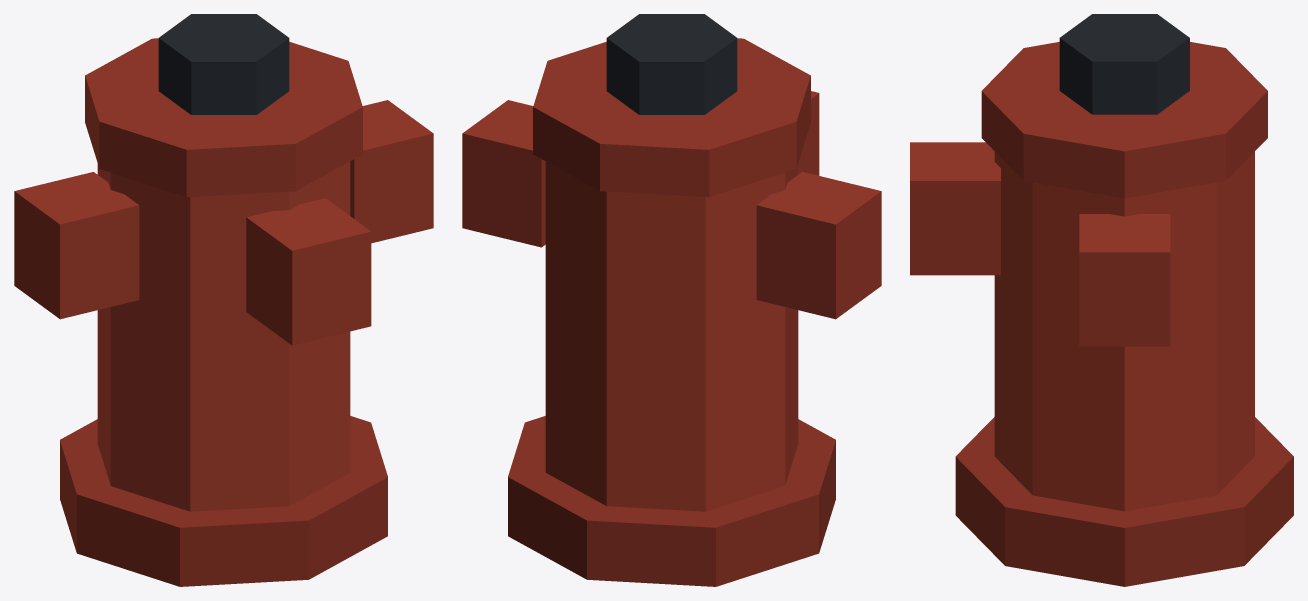
File: prop_hydrant_a.glb
The picture shows the model from 3 angles, left to right: view 1: azimuth 30°, elevation 25°; view 2: azimuth 150°, elevation 25°; view 3: azimuth 270°, elevation 25°; orthographic projection.
Parts seen in each view (by area): view 1: prop; view 2: prop; view 3: prop.
Part boxes in pixels (bbox=[...]): prop: bbox=[14, 14, 433, 586]; prop: bbox=[462, 14, 881, 586]; prop: bbox=[910, 14, 1293, 586].
Bounding box in the file's own units: 0.66 × 0.81 × 0.59.
